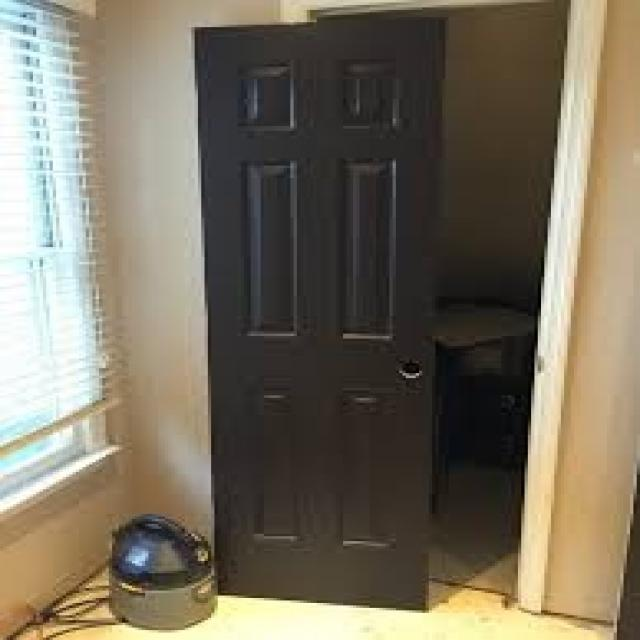Door: (187, 23, 451, 623)
